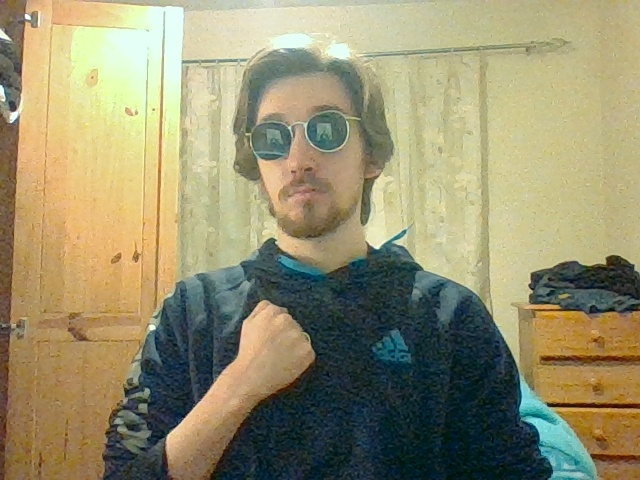my: (237, 299, 316, 389)
